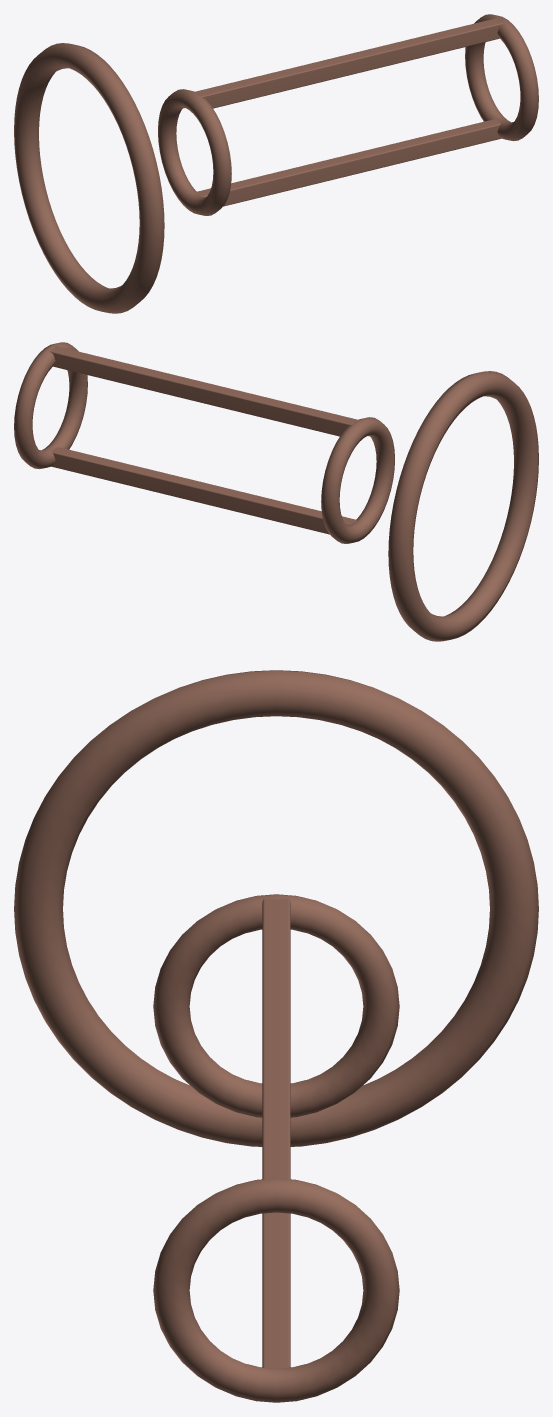
File: elastic_set.glb
3 views of the same model, one above another, from view 1: azimuth 30°, elevation 25°; view 2: azimuth 150°, elevation 25°; view 3: azimuth 270°, elevation 25° (orthographic). The views are drawn at different scales.
Parts seen in each view (by area): view 1: RW3_Elastic_Relaxed, RW3_Elastic_Stretched_B, RW3_Elastic_Stretched_A, RW3_Elastic_Stretched_End_Left, RW3_Elastic_Stretched_End_Right; view 2: RW3_Elastic_Relaxed, RW3_Elastic_Stretched_B, RW3_Elastic_Stretched_A, RW3_Elastic_Stretched_End_Left, RW3_Elastic_Stretched_End_Right; view 3: RW3_Elastic_Relaxed, RW3_Elastic_Stretched_End_Right, RW3_Elastic_Stretched_End_Left, RW3_Elastic_Stretched_B, RW3_Elastic_Stretched_A.
Boxes of the visible parts, x1,y1,x2,y2 form: RW3_Elastic_Relaxed: [14, 43, 164, 313]; RW3_Elastic_Stretched_B: [193, 18, 503, 108]; RW3_Elastic_Stretched_A: [196, 119, 500, 206]; RW3_Elastic_Stretched_End_Left: [158, 89, 231, 215]; RW3_Elastic_Stretched_End_Right: [465, 14, 538, 141]; RW3_Elastic_Relaxed: [388, 371, 538, 641]; RW3_Elastic_Stretched_B: [49, 346, 359, 436]; RW3_Elastic_Stretched_A: [52, 447, 356, 534]; RW3_Elastic_Stretched_End_Left: [321, 417, 394, 543]; RW3_Elastic_Stretched_End_Right: [14, 342, 87, 469]; RW3_Elastic_Relaxed: [14, 670, 538, 1146]; RW3_Elastic_Stretched_End_Right: [153, 1178, 399, 1402]; RW3_Elastic_Stretched_End_Left: [153, 894, 399, 1117]; RW3_Elastic_Stretched_B: [262, 898, 290, 1179]; RW3_Elastic_Stretched_A: [262, 1212, 290, 1368].
Bounding box in the file's own units: 1.35 × 0.75 × 0.75.
